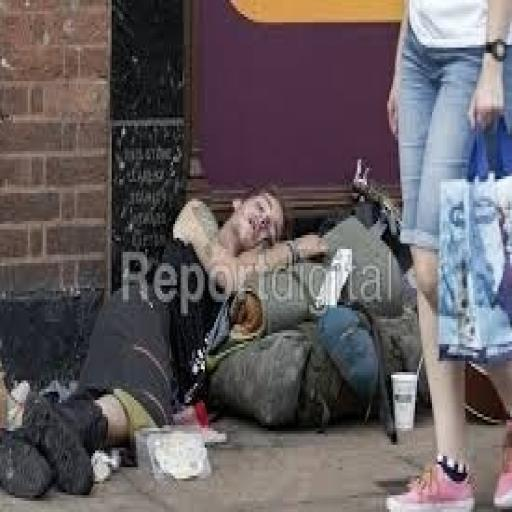sleeping: (171, 179, 421, 434)
